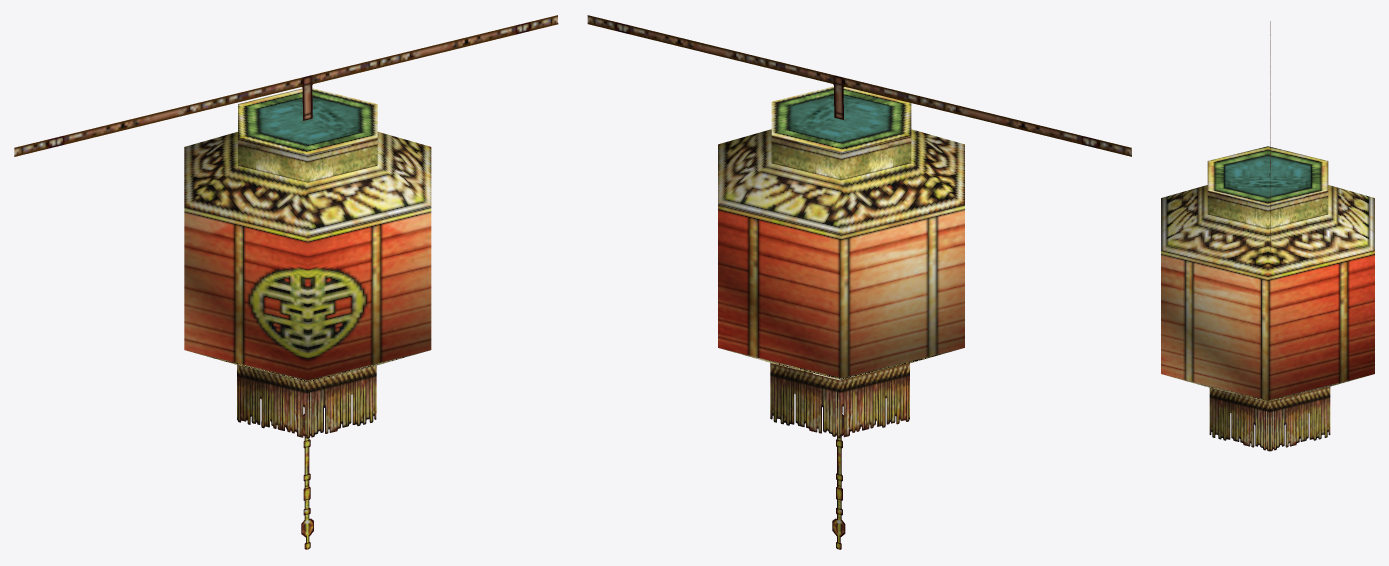
The model's file is taiwan-lantern.glb.
The picture shows the model from 3 angles, left to right: view 1: azimuth 30°, elevation 25°; view 2: azimuth 150°, elevation 25°; view 3: azimuth 270°, elevation 25°; orthographic projection. The views are drawn at different scales.
Visible parts, largest first — view 1: Object02; view 2: Object02; view 3: Object02.
Boxes of the visible parts, x1=… form: Object02: x1=14, y1=15, x2=558, y2=549; Object02: x1=587, y1=15, x2=1131, y2=549; Object02: x1=1161, y1=21, x2=1374, y2=451.
Bounding box in the file's own units: 0.2307 × 0.1921 × 0.0907.
Materials: 2 (2 with a texture image).
